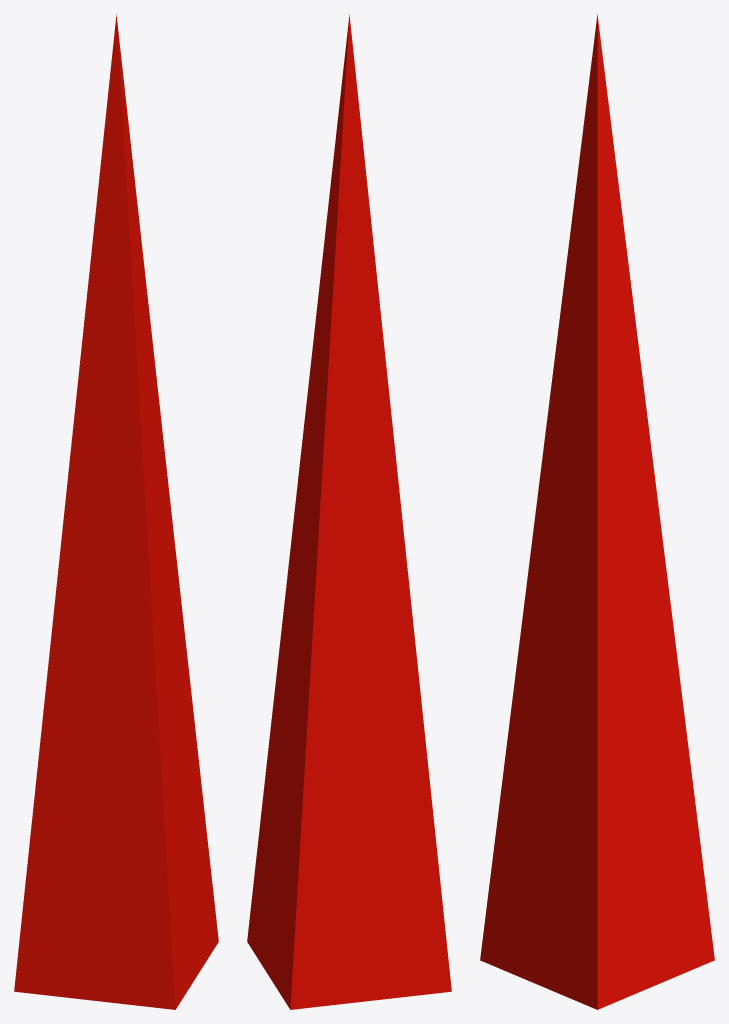
Rendered from stolb.fbx.
3 views of the same model, side by side, from view 1: azimuth 30°, elevation 25°; view 2: azimuth 150°, elevation 25°; view 3: azimuth 270°, elevation 25° (orthographic).
Visible parts, largest first — view 1: Cube; view 2: Cube; view 3: Cube.
Boxes of the visible parts, x1,y1,x2,y2 form: Cube: (14,14,218,1009); Cube: (247,14,451,1009); Cube: (480,14,714,1009).
Bounding box in the file's own units: 20 × 88.92 × 20.
